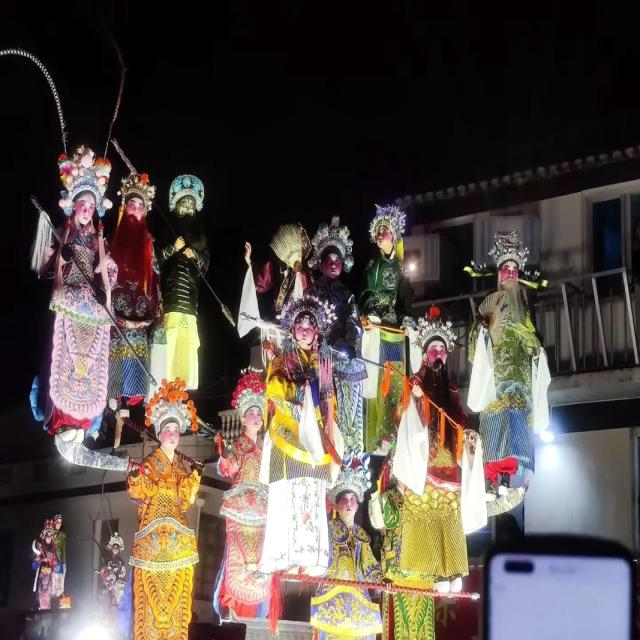Reeves-s Pheasant: (0, 45, 68, 148)
